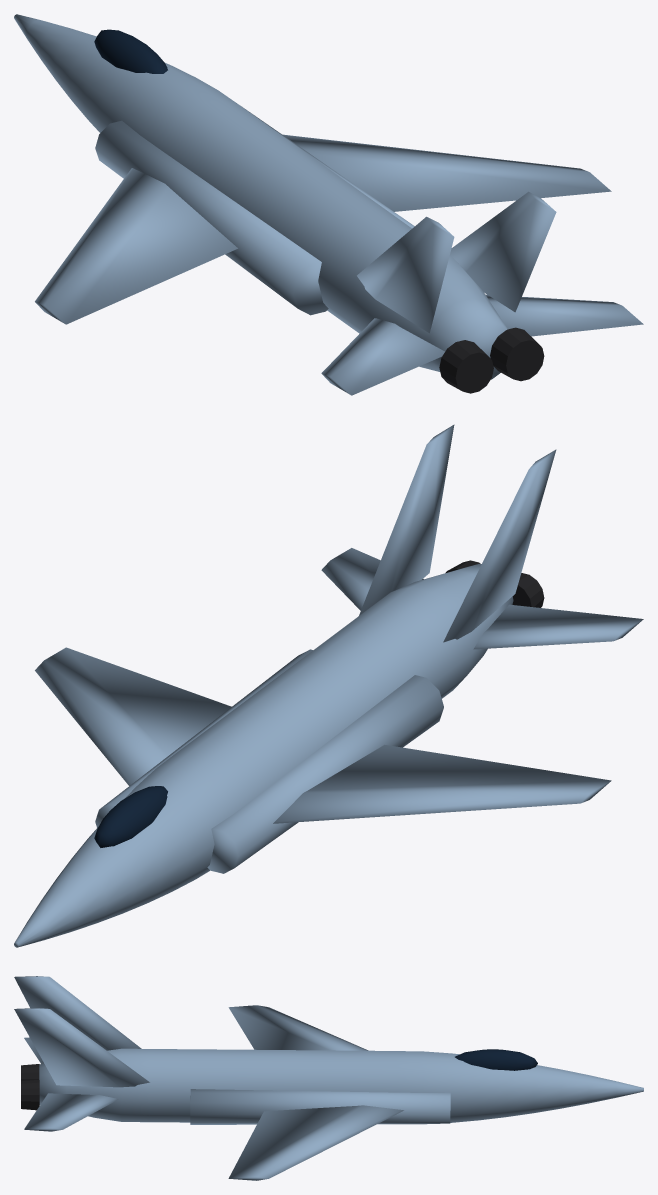
3 renders of one model, top to bottom at view 1: azimuth 30°, elevation 25°; view 2: azimuth 150°, elevation 25°; view 3: azimuth 270°, elevation 25°, orthographic. The views are drawn at different scales.
Visible parts, largest first — view 1: Body, Detail, Canopy; view 2: Body, Canopy, Detail; view 3: Body, Canopy, Detail.
Boxes of the visible parts, bbox=[...] form: Body: bbox=[14, 14, 643, 395]; Detail: bbox=[439, 327, 544, 393]; Canopy: bbox=[94, 29, 167, 73]; Body: bbox=[14, 424, 643, 947]; Canopy: bbox=[94, 786, 167, 847]; Detail: bbox=[445, 560, 544, 607]; Body: bbox=[14, 976, 643, 1180]; Canopy: bbox=[455, 1049, 537, 1070]; Detail: bbox=[21, 1064, 39, 1110].
Bounding box in the file's own units: 14.7 × 5.12 × 22.81.
